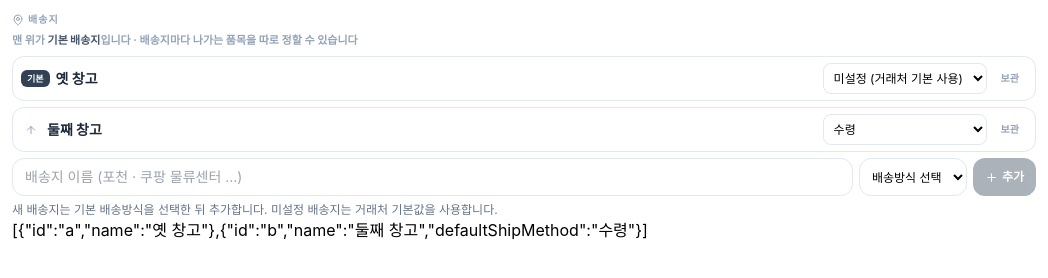
Test: 기존 미설정 배송지는 이름 수정과 순서·보관을 허용하며 방식별로 저장한다
The image size is (1048, 278).
expect the dropdown named "옛 창고 기본 배송방식" shows "미설정 (거래처 기본 사용)": met, box [823,63,987,94]
Replace the text in the 1st field named "배송지 이름" with "변경 창고". click: (436, 79)
box: [56,69,817,89]
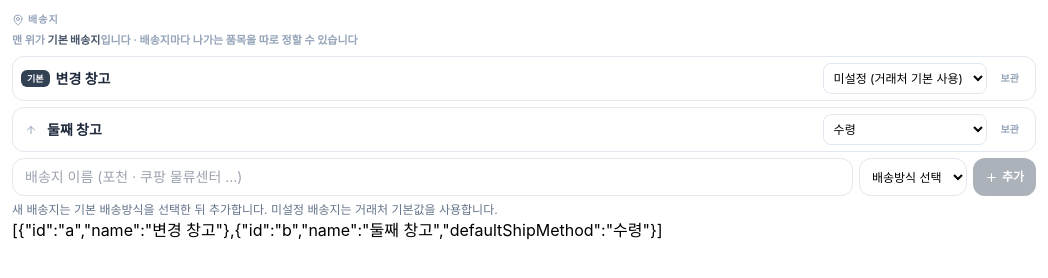
Select "택배" in the dropdown named "변경 창고 기본 배송방식". click: (905, 79)
box: [823,63,987,94]
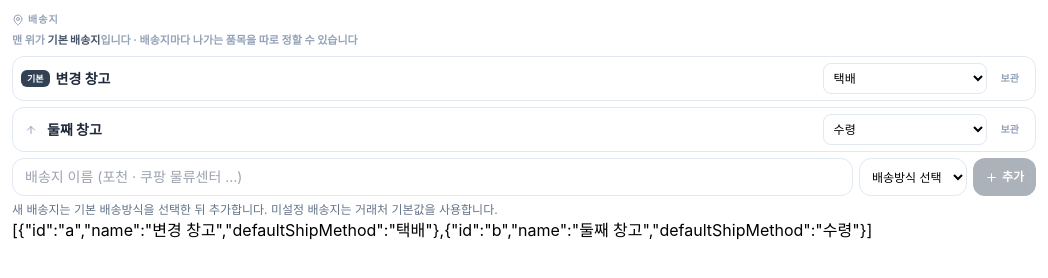
Click the button named "둘째 창고 기본 배송지로". click: (31, 130)
box: [21,120,41,140]
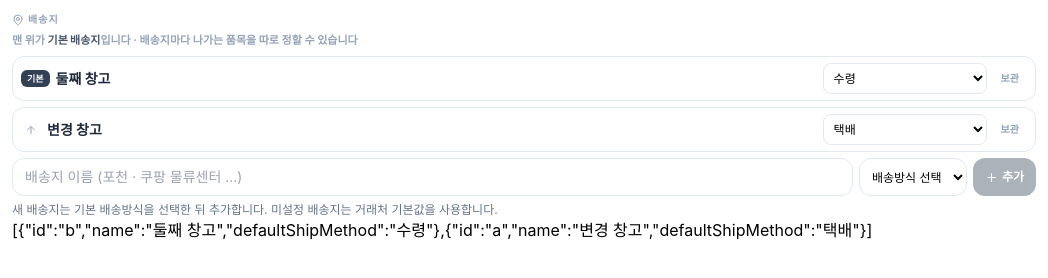
Click the 2nd button "보관". click: (1010, 130)
box: [993,118,1027,141]
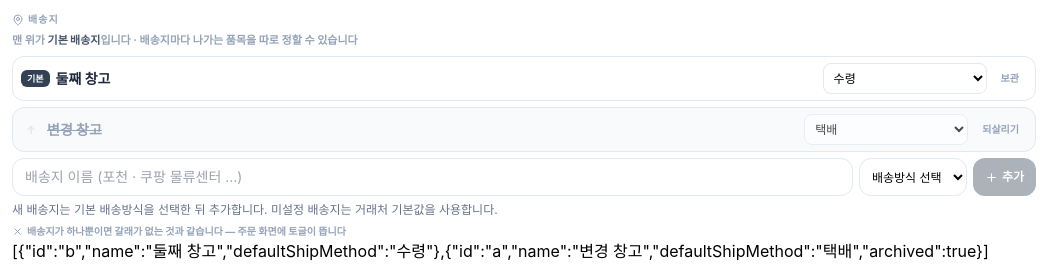
expect the dropdown named "변경 창고 기본 배송방식" is disabled: met, box [804,114,968,145]
